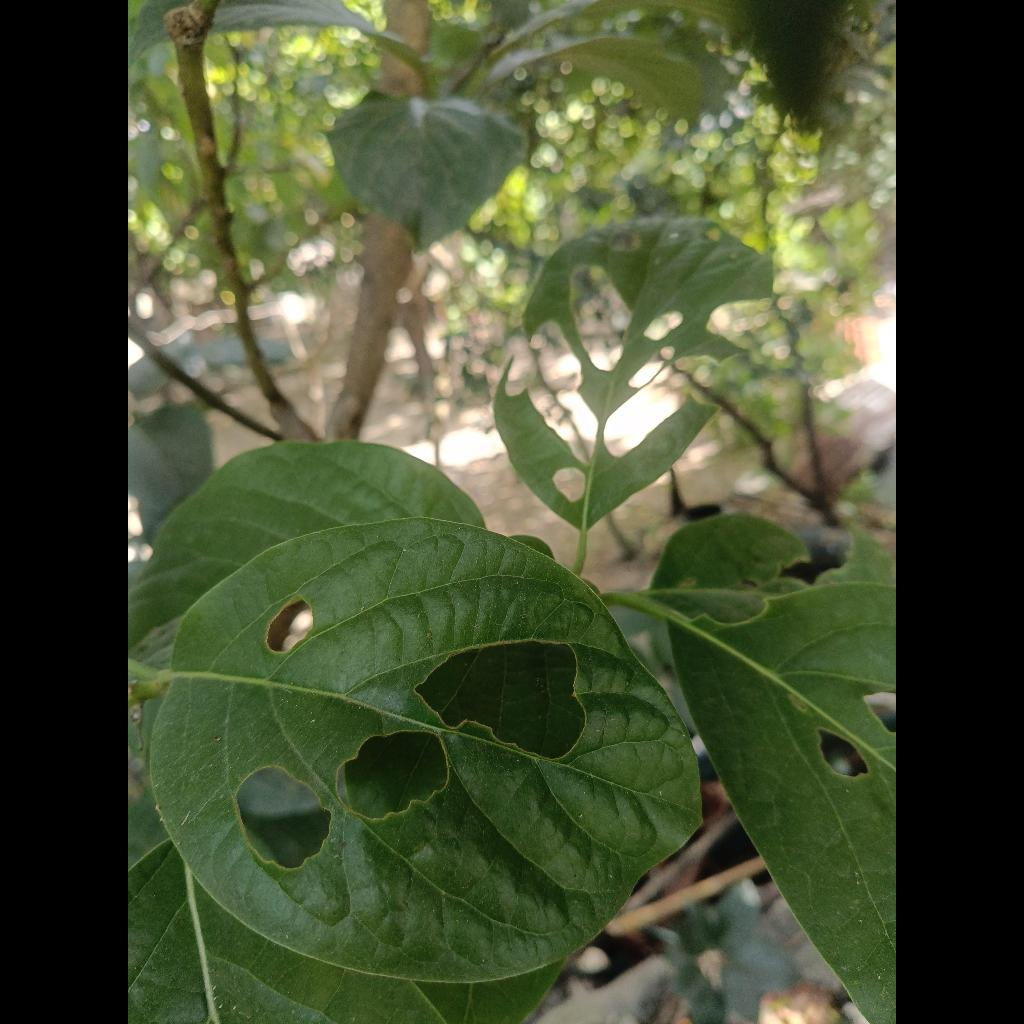Pest Infested: (151, 518, 700, 984)
